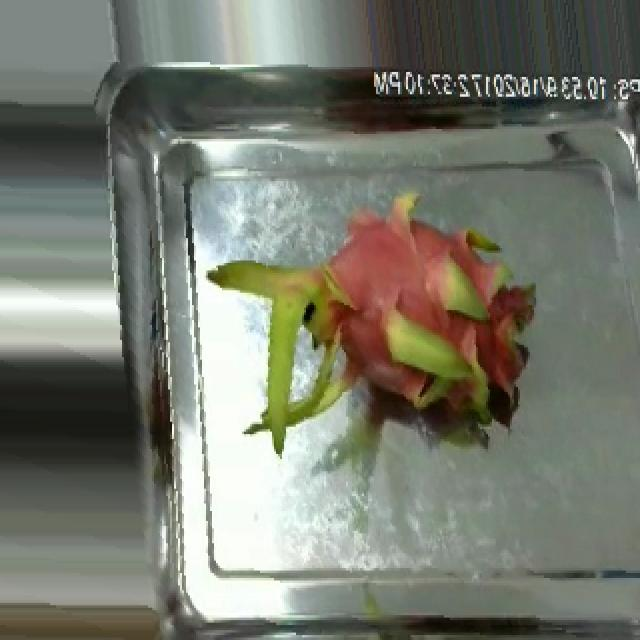fruit: (188, 161, 560, 496)
